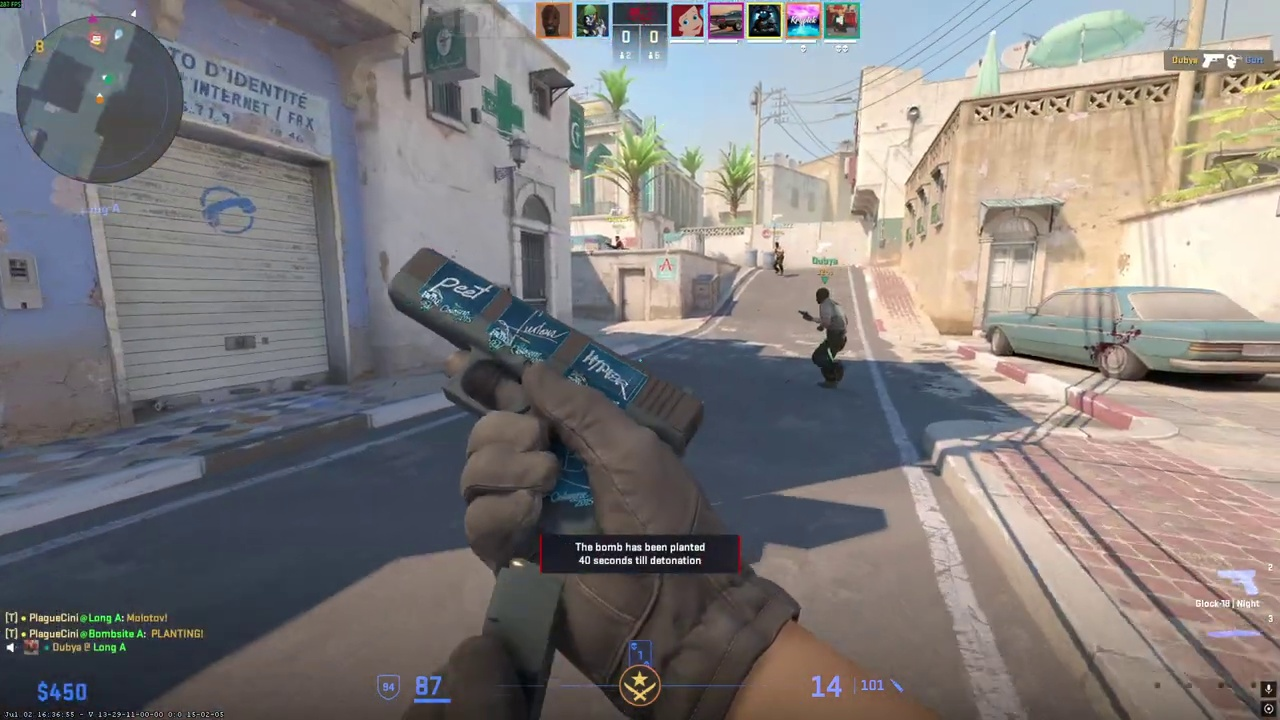Terrorist: (807, 287, 848, 390), (773, 242, 785, 275), (611, 236, 624, 250)
